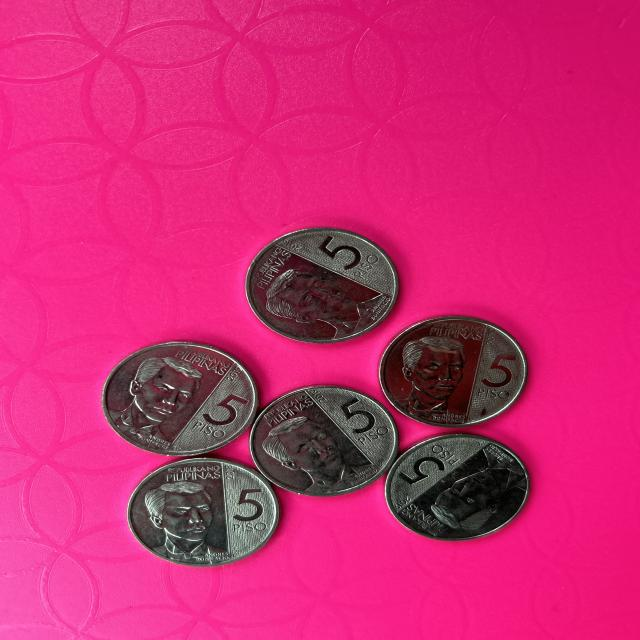5_New_Front: (310, 229, 392, 285), (392, 440, 466, 498), (325, 395, 395, 453), (194, 388, 255, 442), (224, 482, 271, 540), (476, 351, 520, 408)
